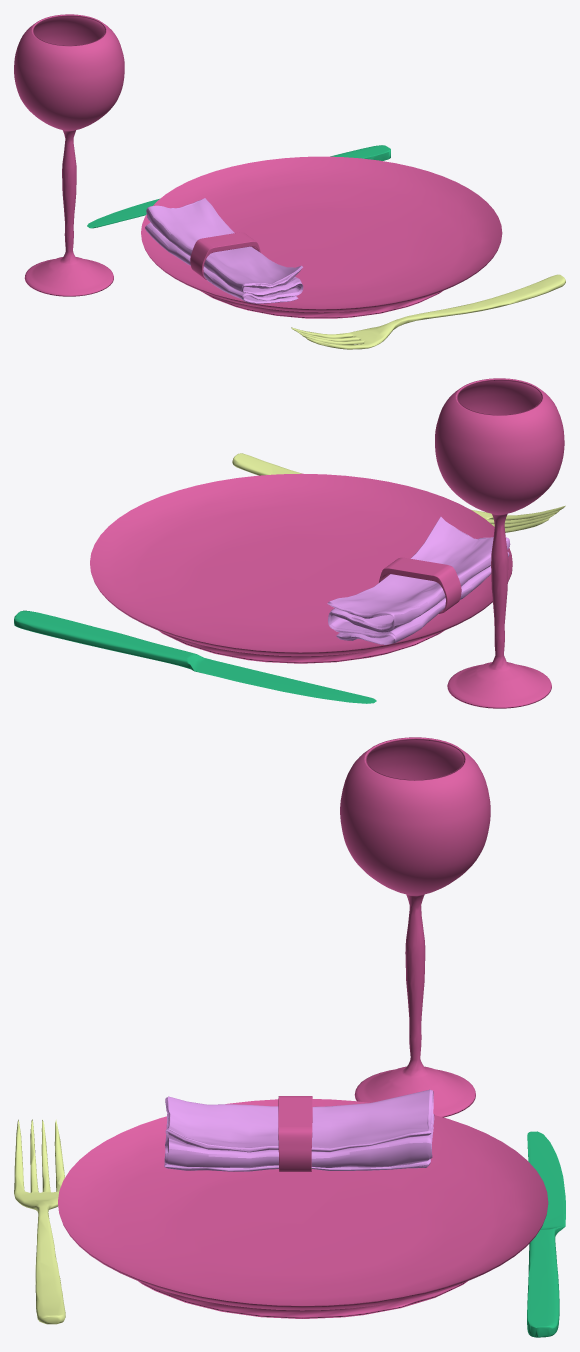
The model's file is dishes.fbx.
3 views of the same model, one above another, from view 1: azimuth 30°, elevation 25°; view 2: azimuth 150°, elevation 25°; view 3: azimuth 270°, elevation 25° (orthographic). The views are drawn at different scales.
Visible parts, largest first — view 1: plate, glass, towel, fork, knife, towel_holder; view 2: plate, glass, towel, knife, towel_holder, fork; view 3: plate, glass, towel, knife, fork, towel_holder.
Boxes of the visible parts, left/top/right/bottom form: plate: left=141, top=156, right=502, bottom=318; glass: left=14, top=14, right=124, bottom=296; towel: left=145, top=198, right=303, bottom=303; fork: left=291, top=274, right=565, bottom=349; knife: left=87, top=145, right=390, bottom=228; towel_holder: left=190, top=232, right=260, bottom=279; plate: left=90, top=473, right=512, bottom=663; glass: left=435, top=378, right=564, bottom=708; towel: left=327, top=516, right=510, bottom=644; knife: left=14, top=610, right=376, bottom=703; towel_holder: left=379, top=557, right=461, bottom=613; fork: left=232, top=453, right=565, bottom=532; plate: left=58, top=1099, right=548, bottom=1318; glass: left=340, top=737, right=490, bottom=1117; towel: left=164, top=1089, right=434, bottom=1171; knife: left=527, top=1131, right=565, bottom=1337; fork: left=14, top=1119, right=65, bottom=1324; towel_holder: left=278, top=1096, right=312, bottom=1171.
Size of the model in its own units: 46.24 by 26.37 by 39.2.
